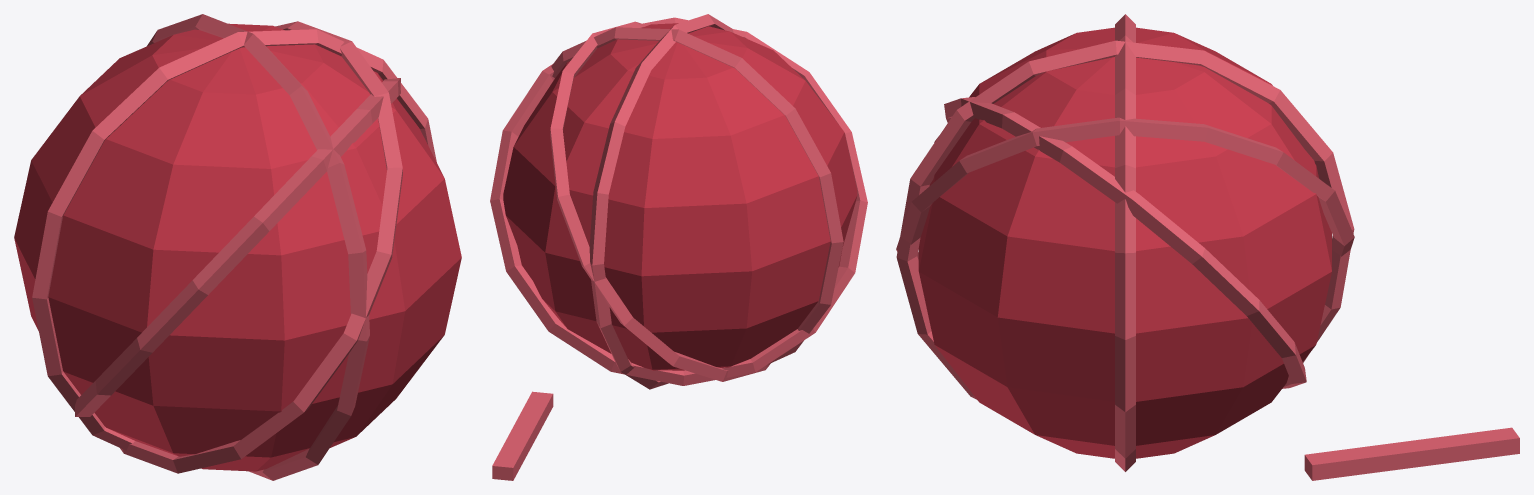
Rendered from yarn_ball.glb.
3 views of the same model, side by side, from view 1: azimuth 30°, elevation 25°; view 2: azimuth 150°, elevation 25°; view 3: azimuth 270°, elevation 25° (orthographic). The views are drawn at different scales.
Visible parts, largest first — view 1: ball, ball_yarn_strand; view 2: ball, ball_yarn_strand; view 3: ball, ball_yarn_strand.
Boxes of the visible parts, x1,y1,x2,y2 form: ball: [14, 23, 461, 471]; ball_yarn_strand: [32, 14, 436, 480]; ball: [503, 23, 857, 370]; ball_yarn_strand: [490, 14, 867, 480]; ball: [918, 27, 1331, 458]; ball_yarn_strand: [896, 14, 1519, 480].
Size of the model in its own units: 0.528 by 0.528 by 0.7177.
